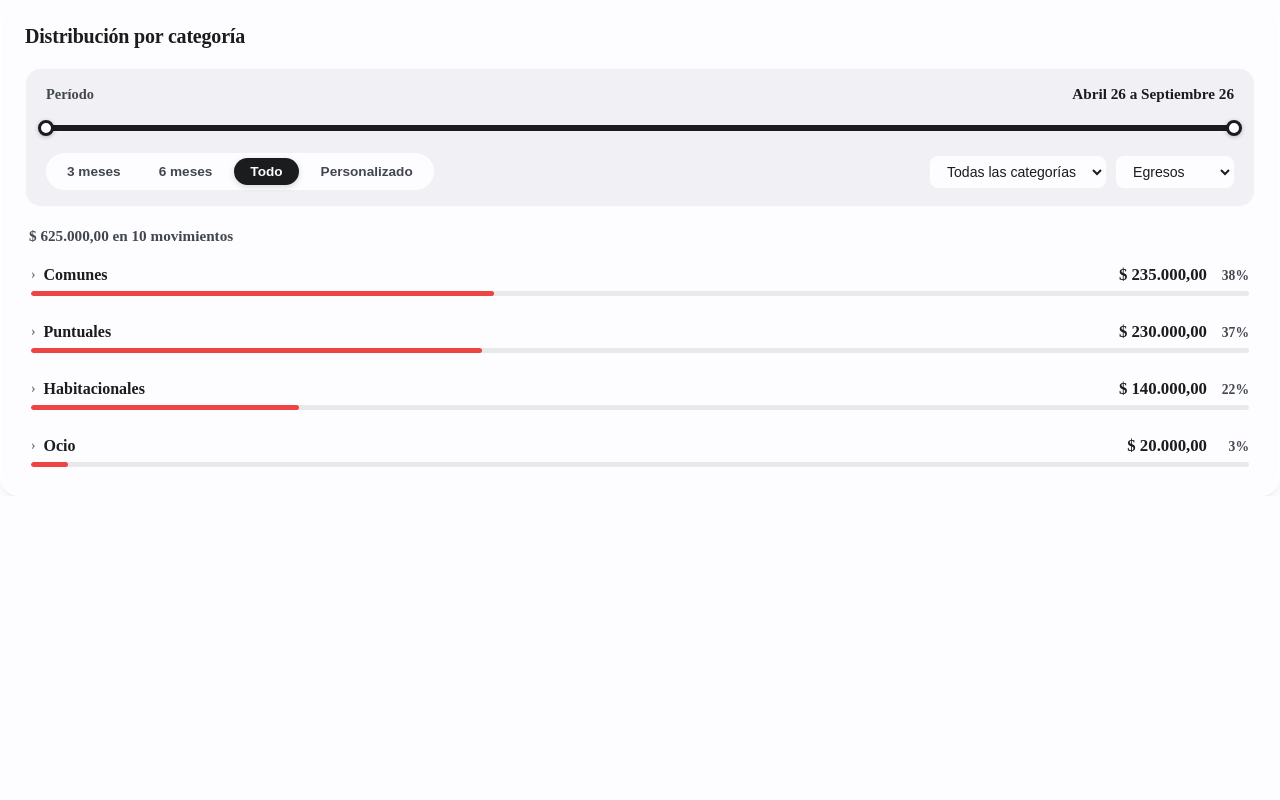
CategoryDistributionCard - In-situ Drill Down & Global Percentages › drills down into a category WITHOUT hiding the other categories
Expected: the button titled "Ver desglose de Habitacionales" is shown, left=25, top=375, right=1255, bottom=414
Expected: the button titled "Ver desglose de Puntuales" is shown, left=25, top=318, right=1255, bottom=357
# Click Comunes to drill down
What coordinates should you click on to do the following:
click the button titled "Ver desglose de Comunes"
I would click on:
 (76, 274)
Its box is left=25, top=261, right=1255, bottom=300.
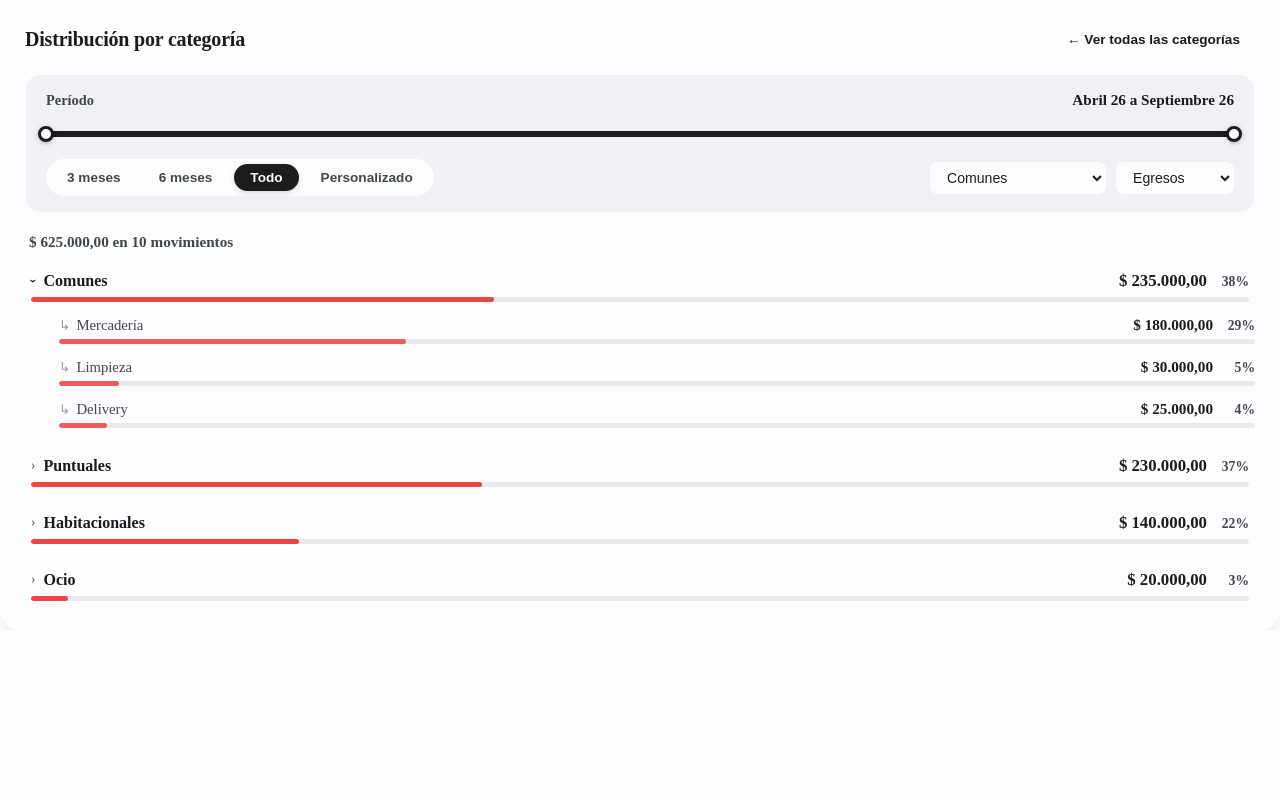
Now the text "Mercadería" is shown, box left=76, top=316, right=143, bottom=332
Now the text "Limpieza" is shown, box left=76, top=358, right=132, bottom=374
Now the text "Delivery" is shown, box left=76, top=400, right=128, bottom=416
# Toggling Comunes again collapses it
What coordinates should you click on to do the following:
click the button titled "Contraer desglose de Comunes"
I would click on:
 (76, 280)
Its box is left=25, top=267, right=1255, bottom=306.
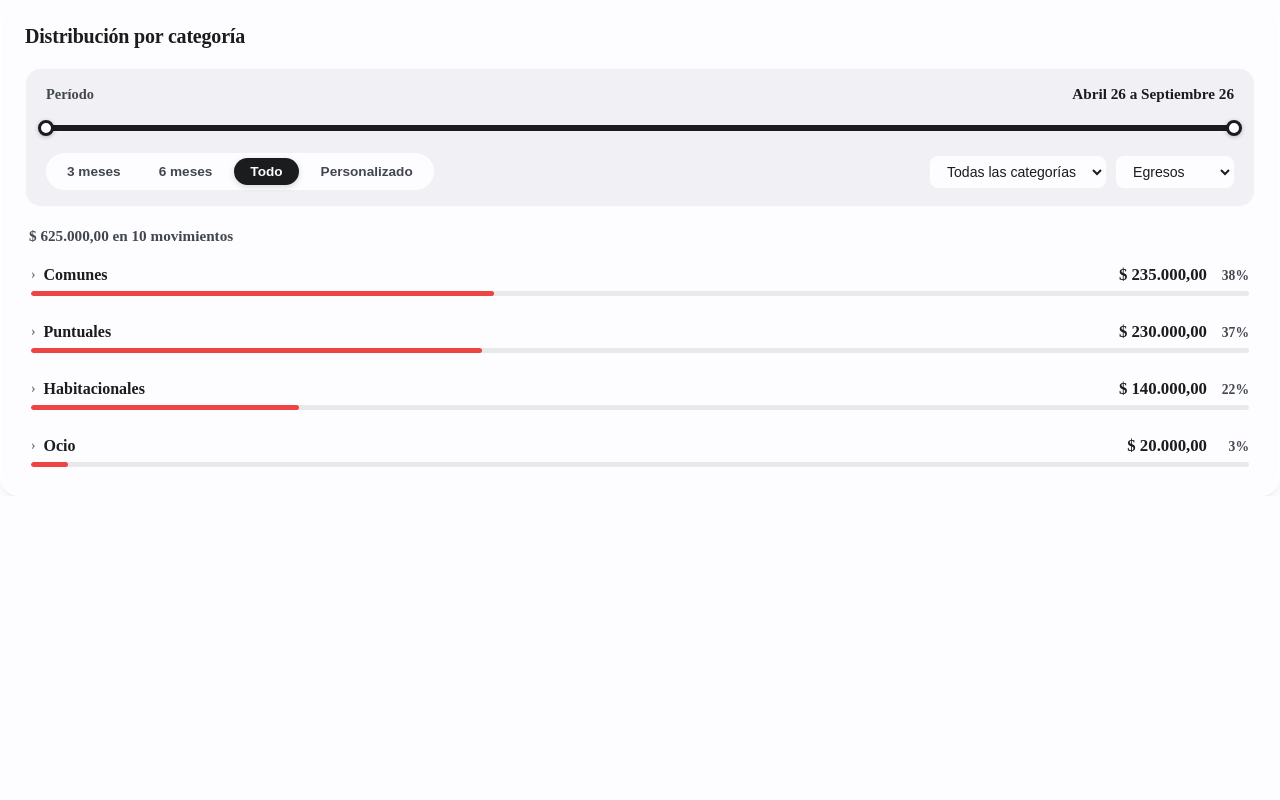
Expected: the button titled "Ver desglose de Habitacionales" is shown, left=25, top=375, right=1255, bottom=414
Now the text "Limpieza" is gone
Now the text "Delivery" is gone
